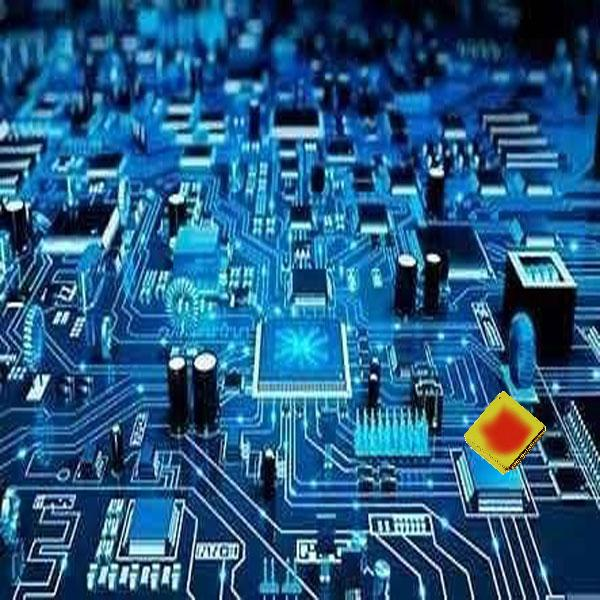componente_T: (459, 391, 550, 475)
